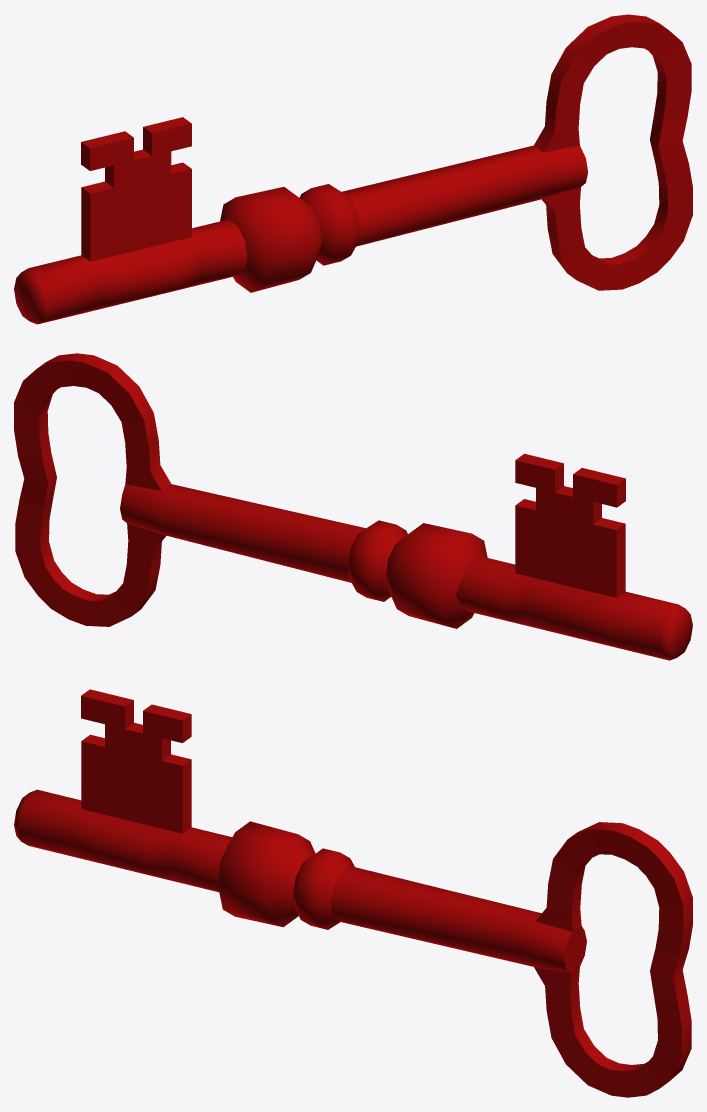
File: key_red.fbx
3 renders of one model, top to bottom at view 1: azimuth 30°, elevation 25°; view 2: azimuth 150°, elevation 25°; view 3: azimuth 330°, elevation 25°, orthographic.
Visible parts, largest first — view 1: Key_B; view 2: Key_B; view 3: Key_B.
Part boxes in pixels (left/top/right/bottom): Key_B: left=14, top=14, right=692, bottom=324; Key_B: left=14, top=353, right=692, bottom=660; Key_B: left=14, top=689, right=692, bottom=1097.
Size of the model in its own units: 9.16 by 3.58 by 1.18.
